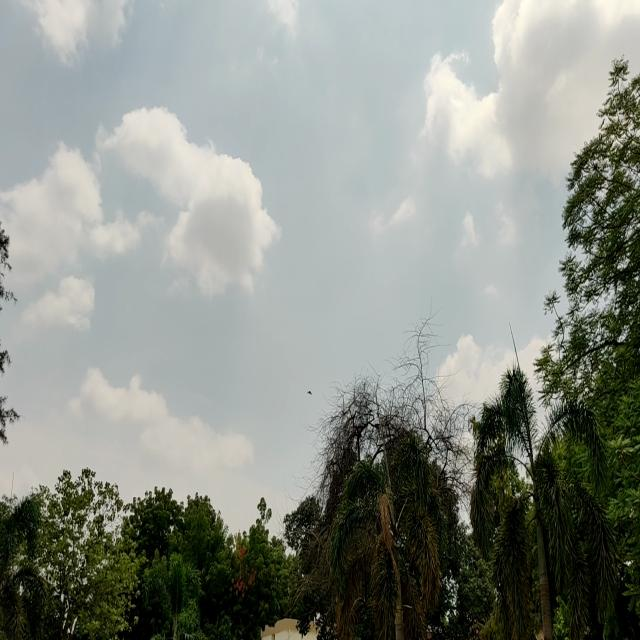drone: (302, 378, 319, 401)
